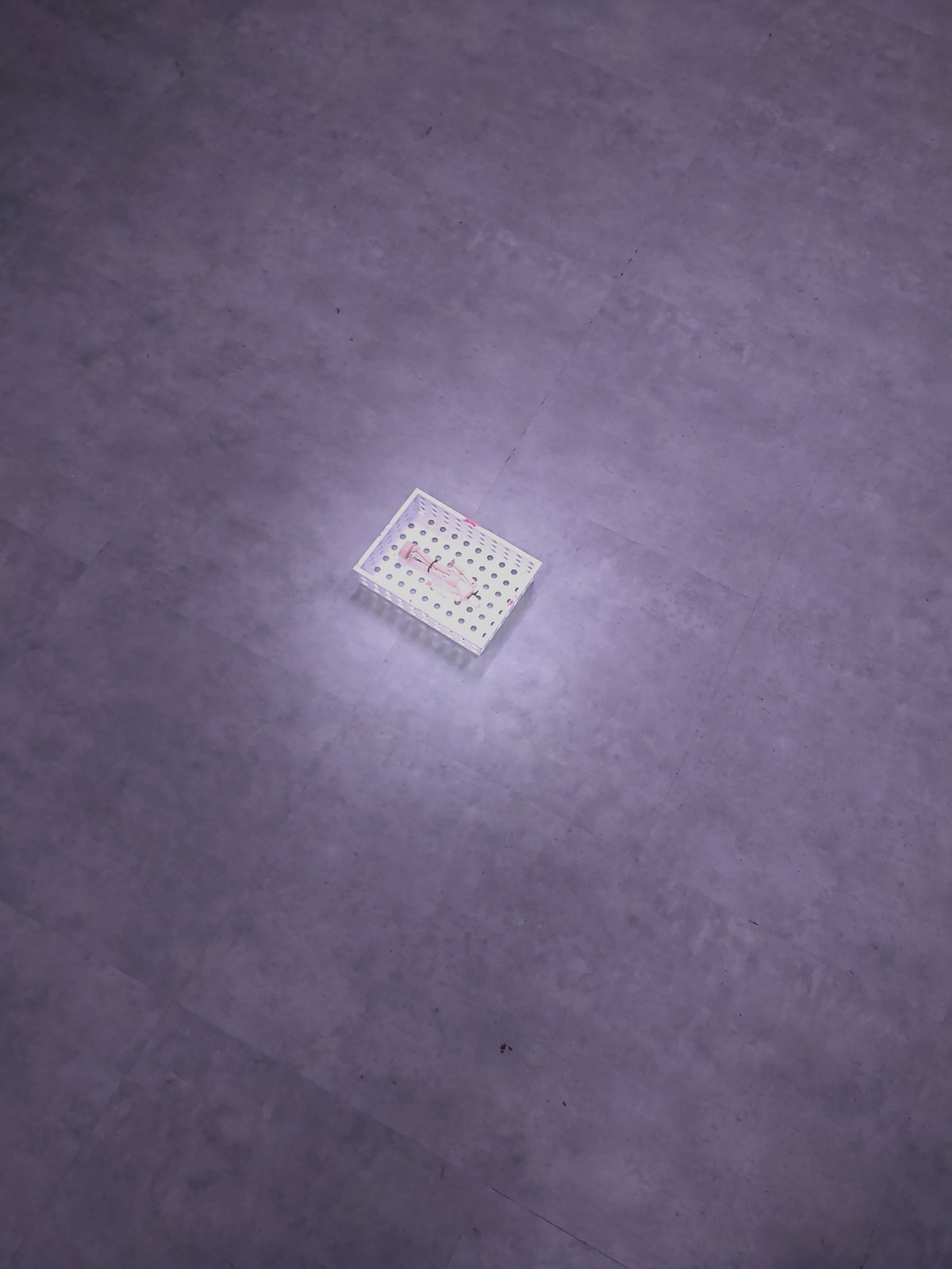basket: (351, 485, 545, 661)
mannequin: (395, 539, 484, 612)
